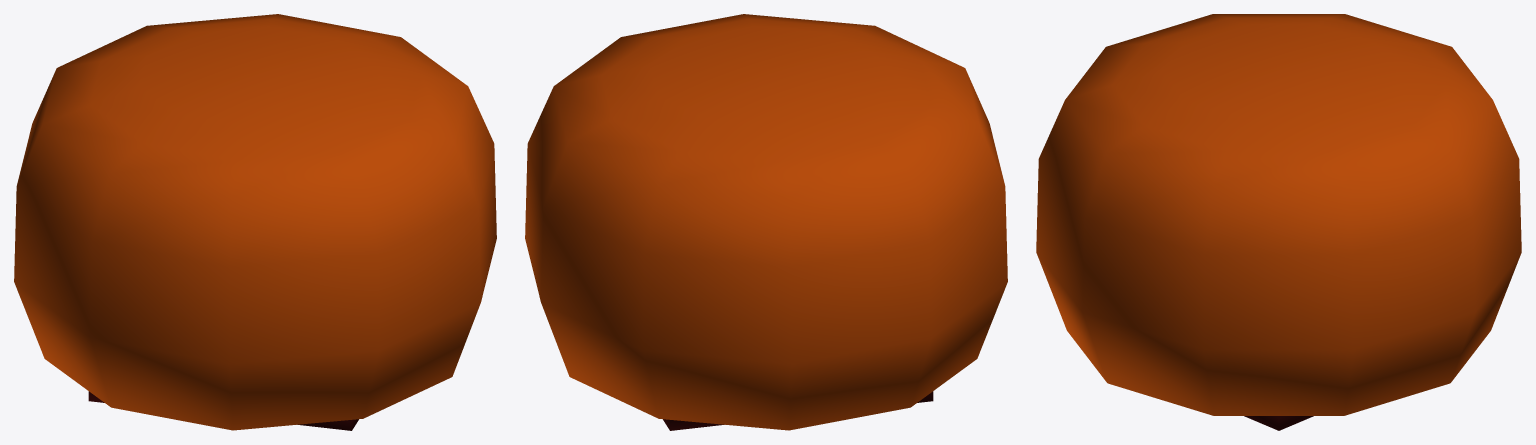
The model's file is Prop_Pouffes_04.fbx.
The picture shows the model from 3 angles, left to right: view 1: azimuth 30°, elevation 25°; view 2: azimuth 150°, elevation 25°; view 3: azimuth 270°, elevation 25°; orthographic projection.
Parts seen in each view (by area): view 1: Prop_Pouffes_04; view 2: Prop_Pouffes_04; view 3: Prop_Pouffes_04.
Part boxes in pixels (box(x1,y1,x2,y2)): Prop_Pouffes_04: box(14, 14, 496, 430); Prop_Pouffes_04: box(525, 14, 1007, 430); Prop_Pouffes_04: box(1036, 14, 1521, 430).
Bounding box in the file's own units: 61.84 × 41.3 × 65.03.
